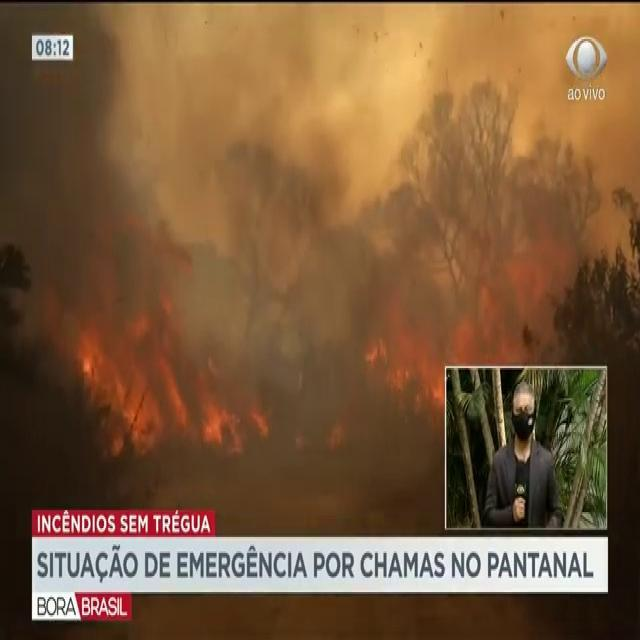Fire: (95, 333, 160, 435)
Smoke: (136, 8, 384, 168)
